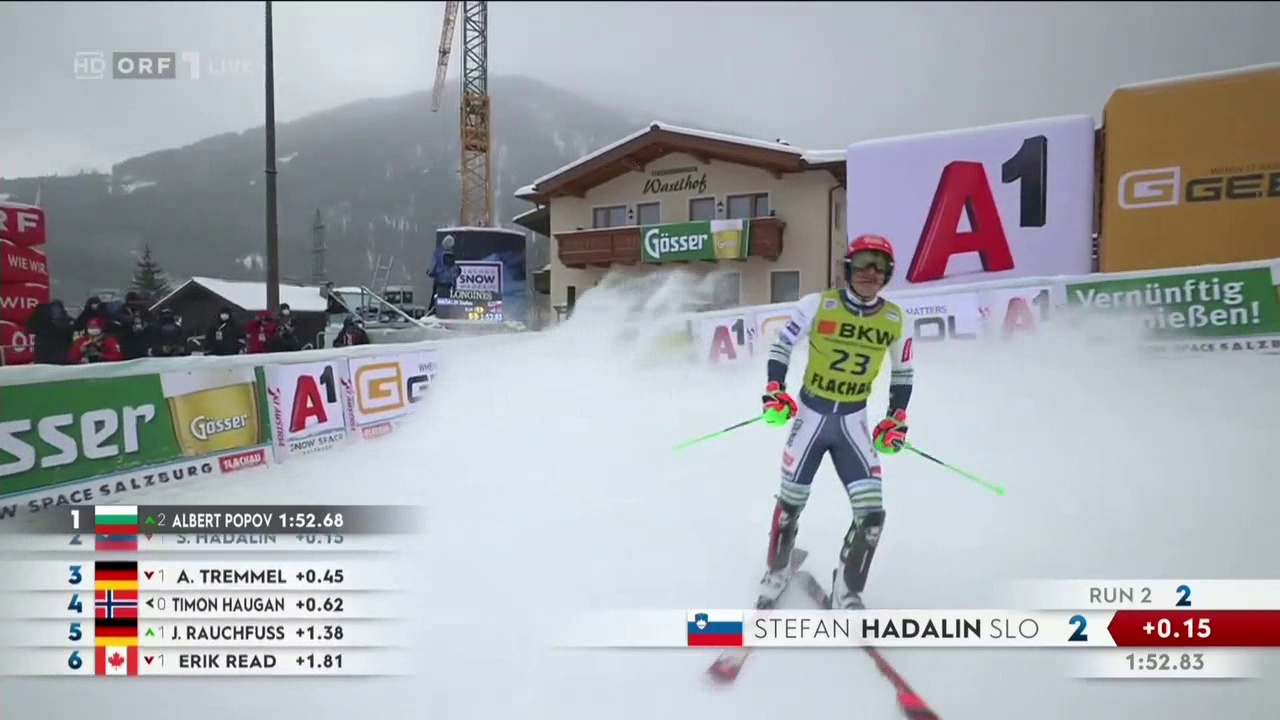a1: (911, 131, 1045, 281), (281, 367, 347, 438), (1000, 290, 1060, 336), (701, 320, 758, 367)
goesser: (11, 381, 173, 475), (183, 401, 257, 441), (645, 226, 722, 264)
rauch: (824, 314, 895, 348)
